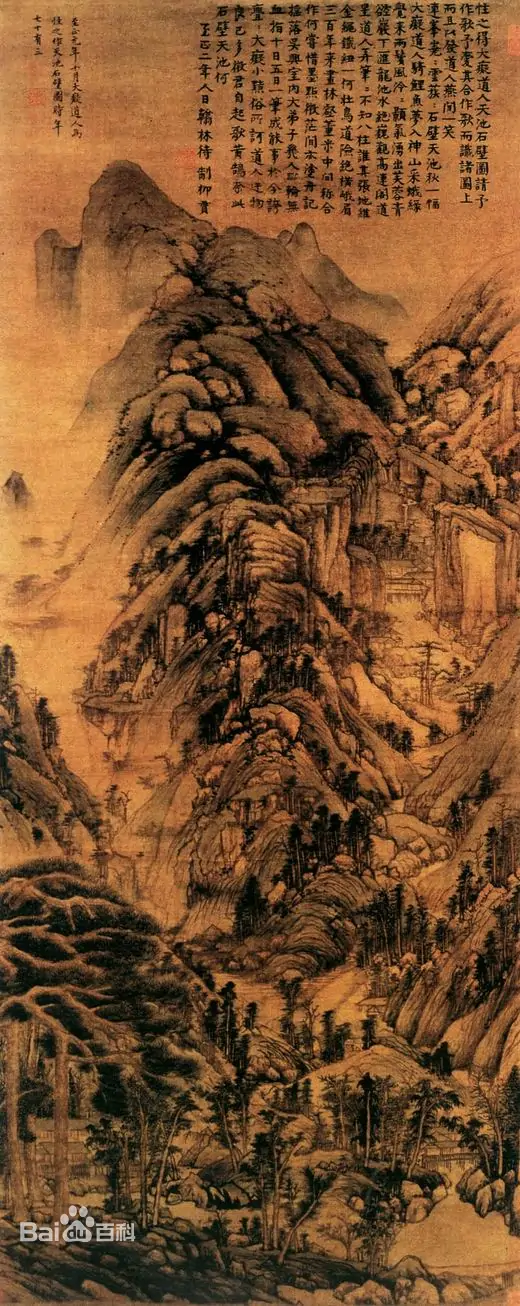house: (32, 1115, 109, 1172), (413, 1125, 495, 1176)
pine: (13, 853, 189, 1238)
range: (87, 168, 377, 938)
rock: (343, 1249, 469, 1306)
tree: (108, 1079, 208, 1256), (280, 817, 393, 909), (405, 1080, 452, 1193), (258, 1132, 290, 1264), (475, 820, 520, 899), (208, 979, 245, 1068), (355, 1068, 381, 1177), (451, 844, 483, 932), (327, 1068, 351, 1156)
waterfall: (451, 508, 511, 680)
